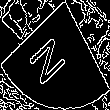N_NE: (32, 24, 78, 86)
